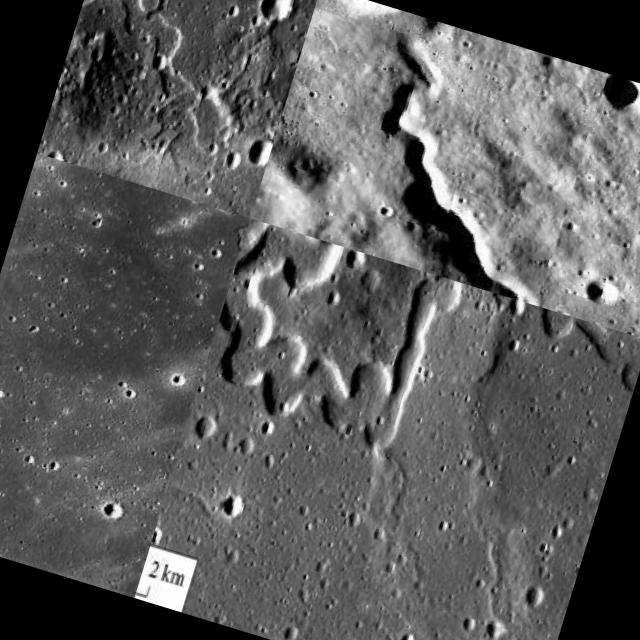rille: (195, 218, 640, 516), (0, 155, 248, 594), (325, 29, 612, 307), (47, 0, 279, 169)
